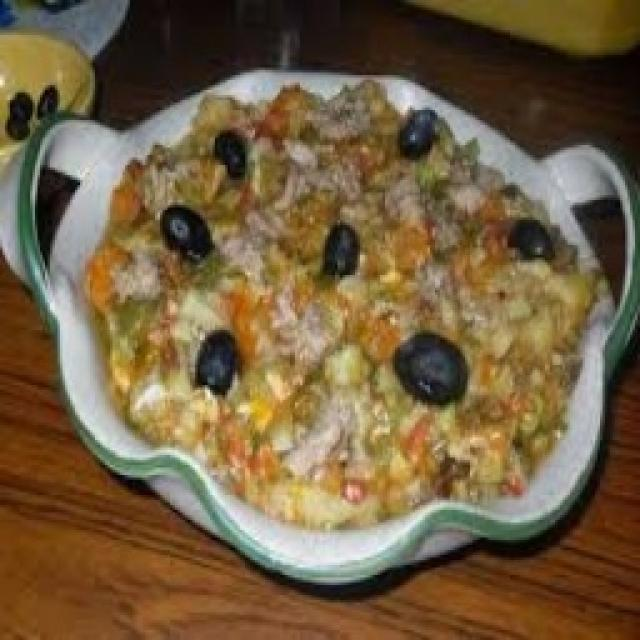Kafteji: (88, 81, 602, 528)
